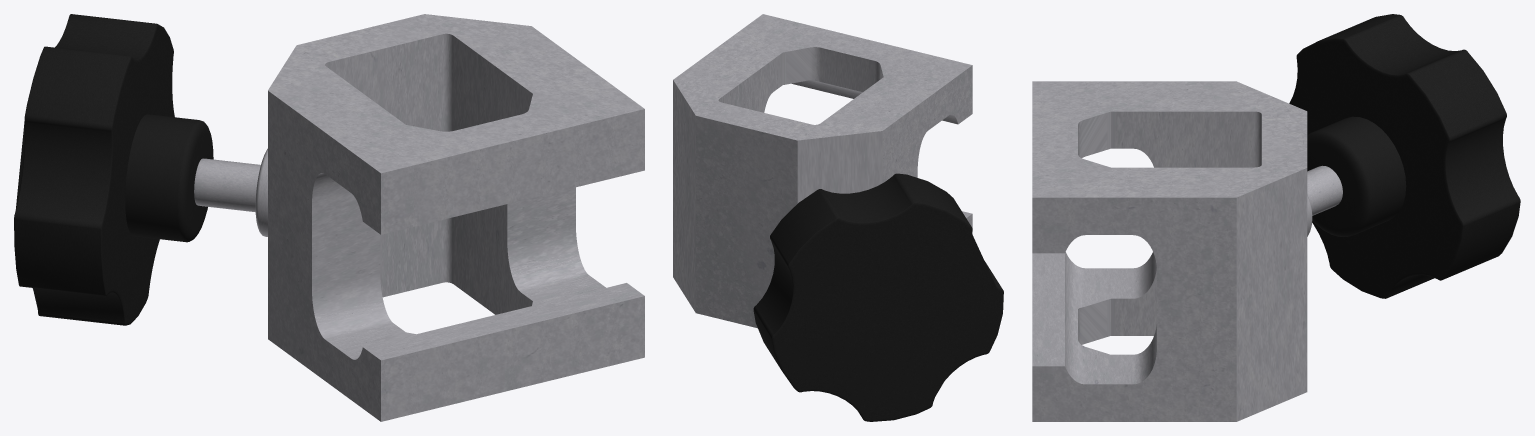
The model's file is heavy_quadrate_clamp.fbx.
The picture shows the model from 3 angles, left to right: view 1: azimuth 30°, elevation 25°; view 2: azimuth 150°, elevation 25°; view 3: azimuth 270°, elevation 25°; orthographic projection. The views are drawn at different scales.
Visible parts, largest first — view 1: clamp, knob, screw; view 2: clamp, knob; view 3: clamp, knob, screw.
Part boxes in pixels (bbox=[...]): clamp: bbox=[255, 14, 644, 421]; knob: bbox=[14, 14, 213, 325]; screw: bbox=[194, 158, 260, 212]; clamp: bbox=[673, 14, 972, 328]; knob: bbox=[753, 173, 1003, 421]; clamp: bbox=[1032, 81, 1312, 421]; knob: bbox=[1289, 14, 1520, 298]; screw: bbox=[1307, 165, 1342, 215].
Bounding box in the file's own units: 7.79 × 4.32 × 7.81.
Materials: 2 (2 with a texture image).
